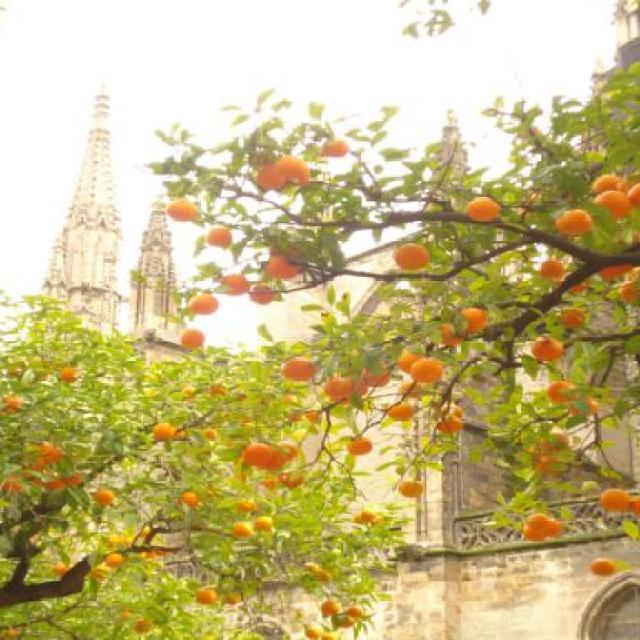Orange: (254, 157, 308, 197), (552, 208, 600, 241), (590, 188, 628, 227), (601, 486, 640, 519), (407, 357, 447, 385), (526, 331, 562, 362), (520, 518, 562, 542), (243, 440, 268, 476), (268, 250, 300, 278), (466, 194, 500, 220), (396, 242, 434, 264), (193, 292, 221, 320), (328, 376, 359, 401), (455, 311, 483, 338), (167, 198, 195, 224), (272, 442, 298, 468), (289, 358, 322, 378), (175, 485, 194, 518), (348, 438, 374, 462), (552, 382, 574, 409), (621, 180, 640, 211), (36, 444, 61, 467), (346, 606, 369, 631), (194, 586, 220, 608), (403, 348, 431, 368), (211, 222, 234, 245), (18, 458, 42, 480), (234, 522, 258, 544), (224, 276, 247, 298), (181, 323, 202, 345), (252, 286, 272, 308), (590, 174, 618, 189), (97, 483, 111, 509), (318, 598, 334, 620), (596, 555, 618, 571), (316, 144, 350, 154), (242, 498, 260, 516), (254, 512, 274, 528), (405, 480, 418, 498), (582, 398, 596, 414), (44, 472, 54, 492), (49, 564, 63, 578), (102, 554, 120, 564), (632, 498, 638, 518), (68, 474, 72, 482)
